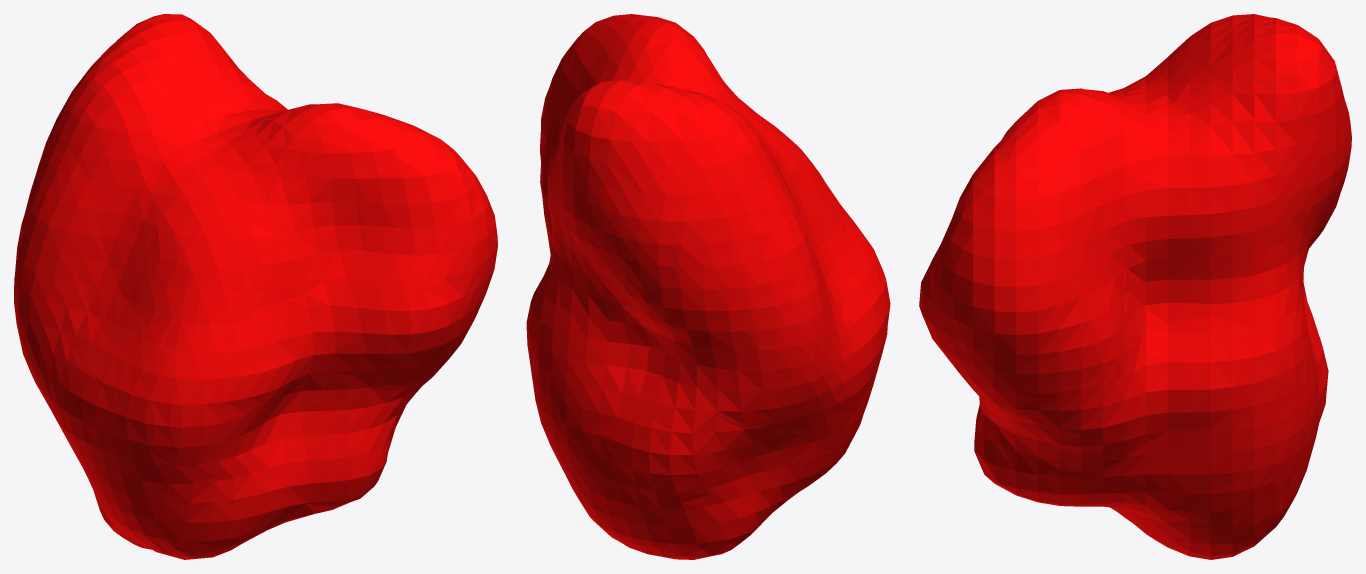
File: yeeD_coarse.dae
The picture shows the model from 3 angles, left to right: view 1: azimuth 30°, elevation 25°; view 2: azimuth 150°, elevation 25°; view 3: azimuth 270°, elevation 25°; orthographic projection. The views are drawn at different scales.
Visible parts, largest first — view 1: yeeD; view 2: yeeD; view 3: yeeD.
Boxes of the visible parts, x1,y1,x2,y2 form: yeeD: (14, 14, 497, 559); yeeD: (526, 14, 890, 559); yeeD: (919, 14, 1351, 559).
Size of the model in its own units: 31.12 by 39.48 by 29.46.
